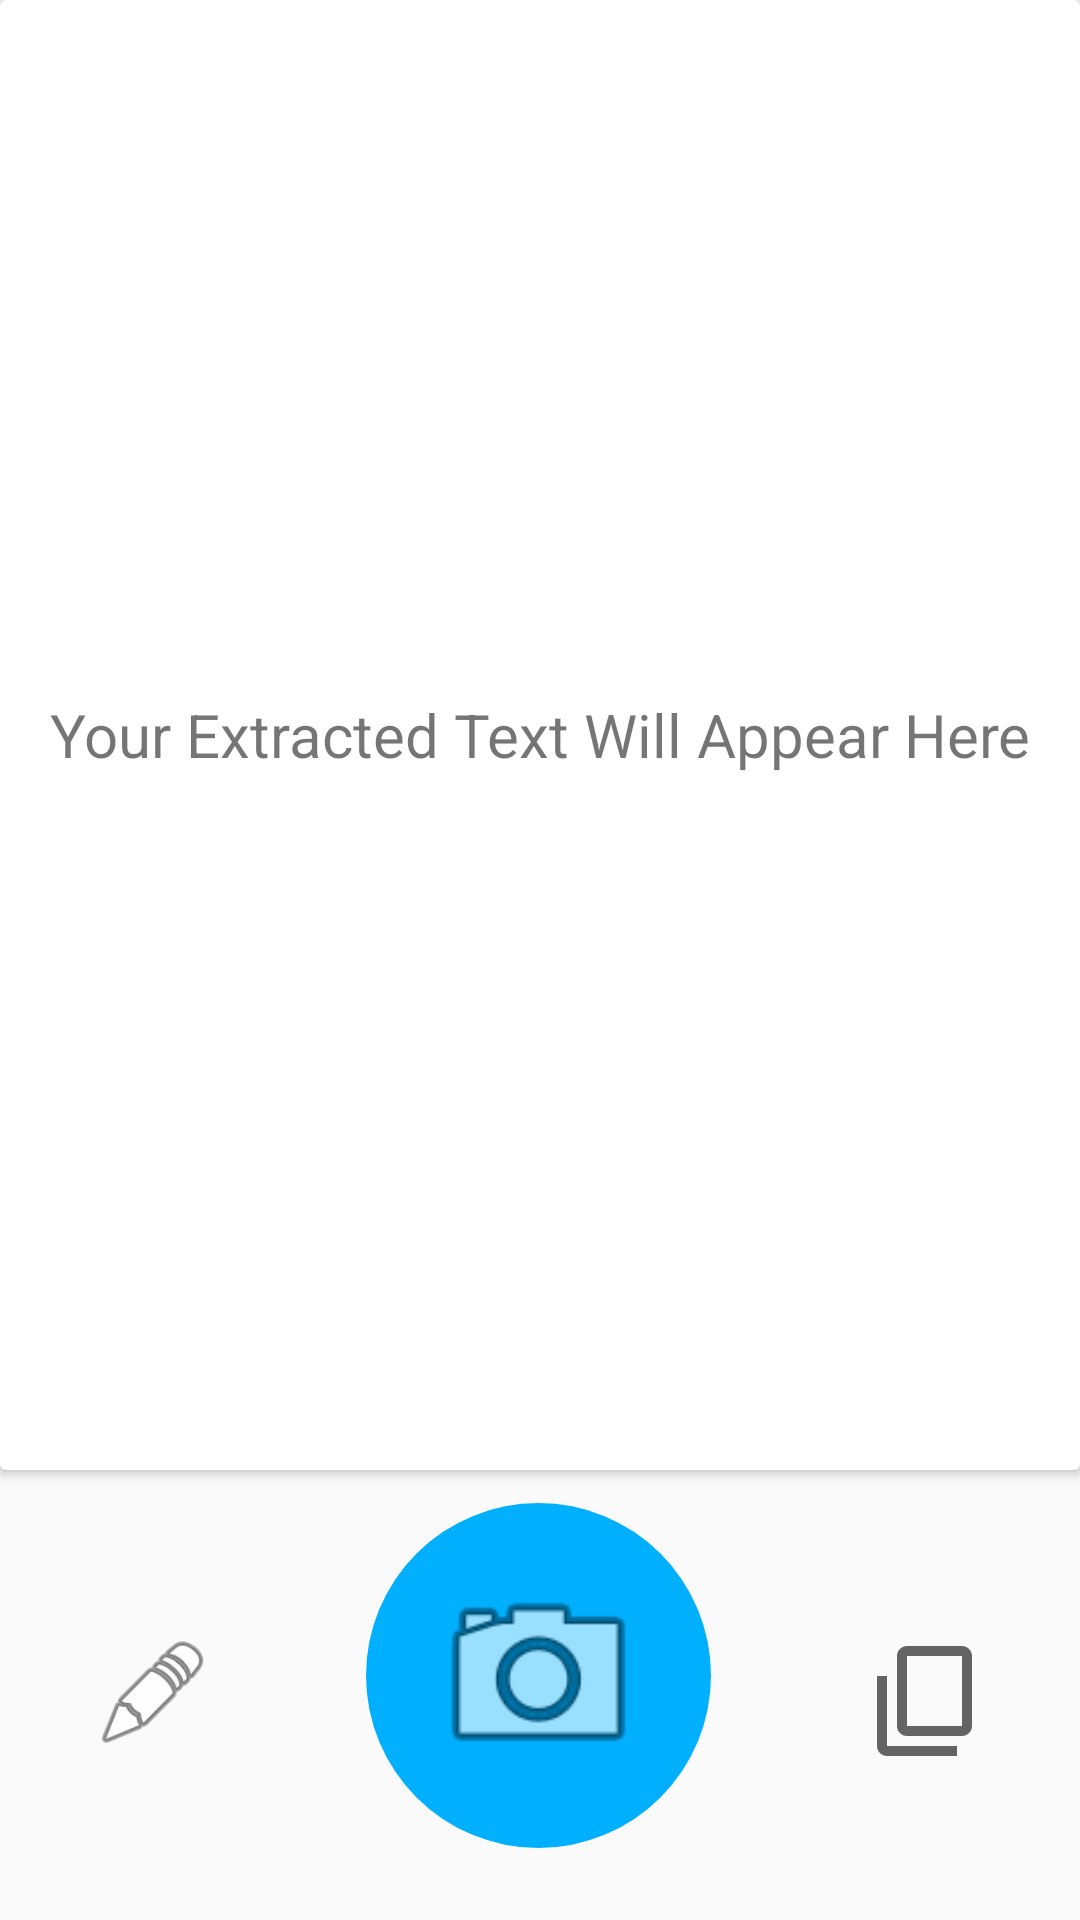

Icon bounding boxes for this 1080 x 1920 phone screenshot, format bbox=(x1, y1, x2, y2):
camera: bbox=(366, 1503, 711, 1848)
edit: bbox=(102, 1641, 203, 1743)
